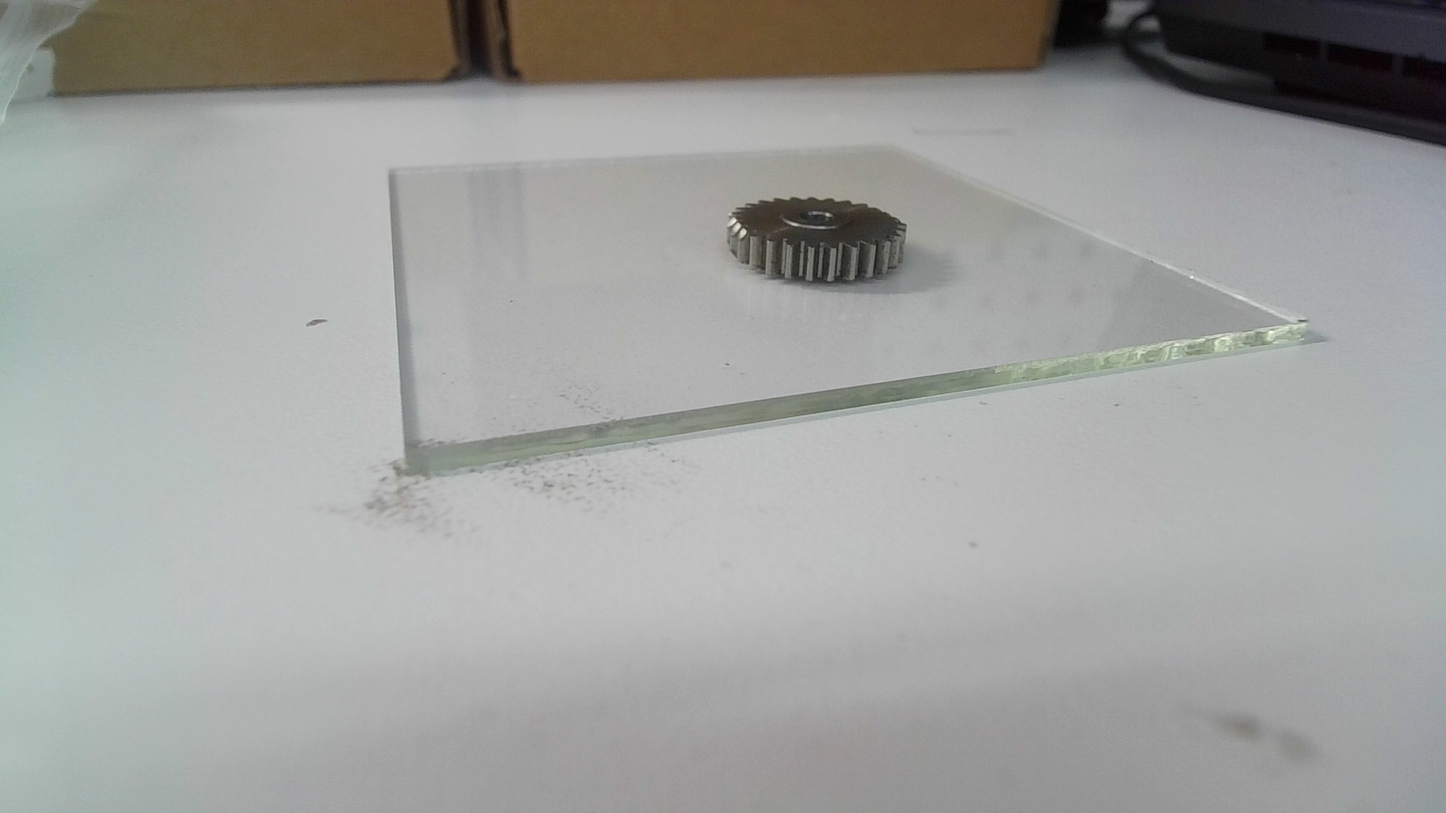gear: (722, 193, 912, 287)
